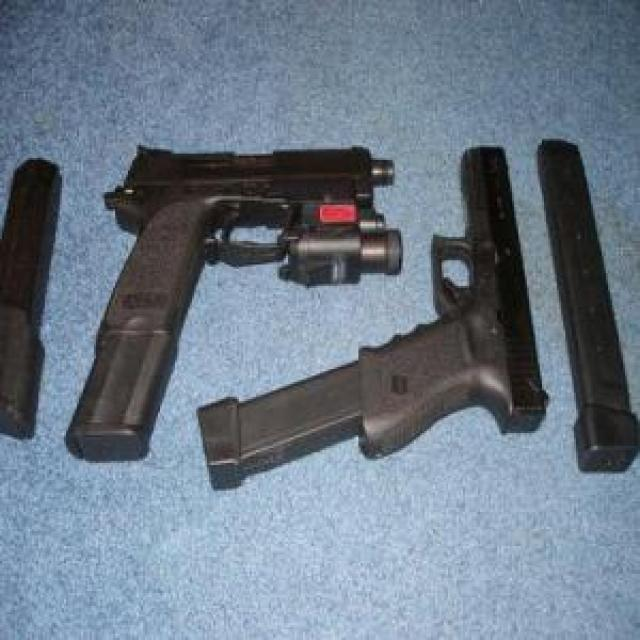pistol: (94, 143, 406, 341), (358, 141, 550, 462)
